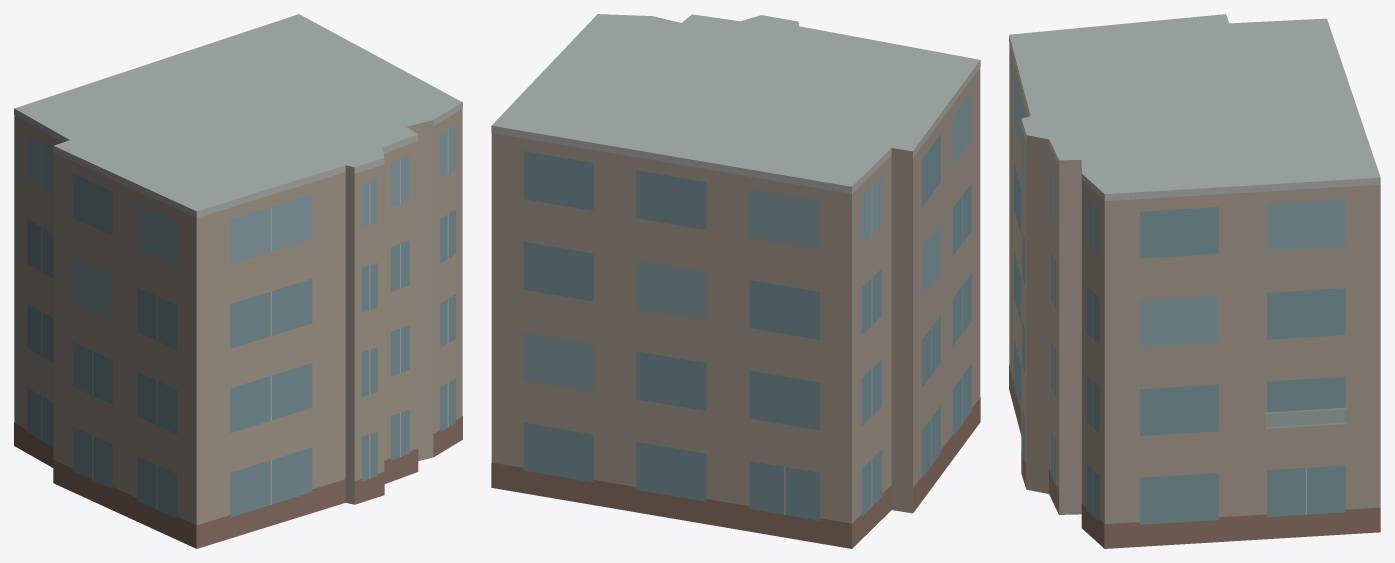
File: survey-upis-32950542.glb
3 renders of one model, left to right at view 1: azimuth 30°, elevation 25°; view 2: azimuth 150°, elevation 25°; view 3: azimuth 270°, elevation 25°, orthographic. The views are drawn at different scales.
Visible parts, largest first — view 1: survey-upis-32950542.tmp; view 2: survey-upis-32950542.tmp; view 3: survey-upis-32950542.tmp.
Boxes of the visible parts, <box> form: survey-upis-32950542.tmp: <box>14,14,462,548</box>; survey-upis-32950542.tmp: <box>491,14,980,548</box>; survey-upis-32950542.tmp: <box>1009,14,1380,548</box>.
Bounding box in the file's own units: 13.53 × 12.4 × 11.79.
